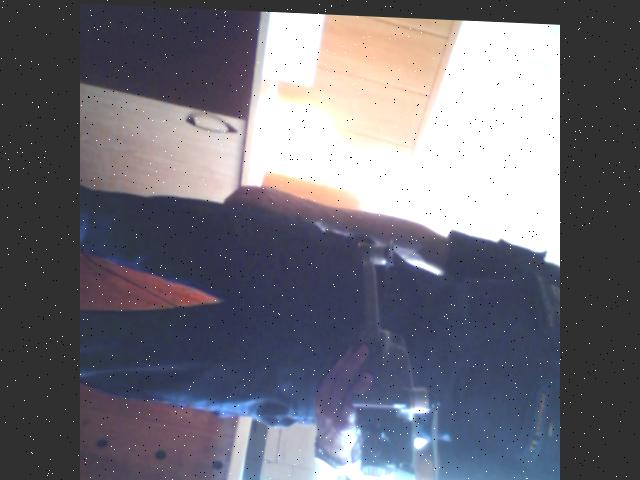drone: (325, 210, 437, 480)
